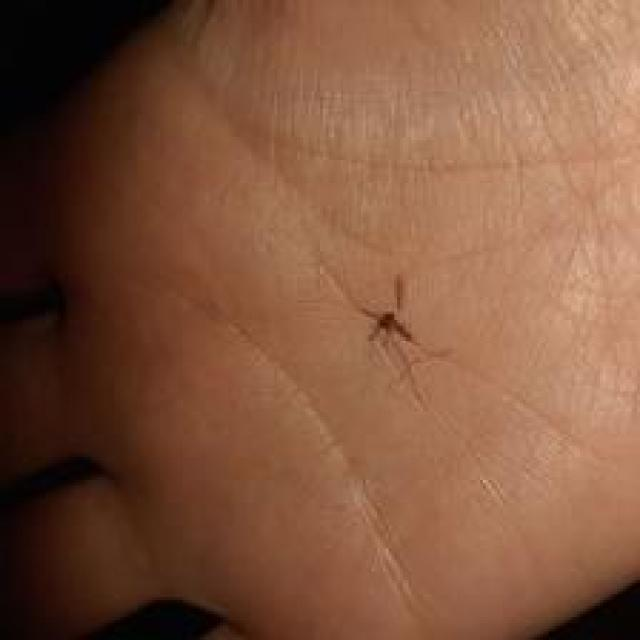Culex: (359, 273, 430, 410)
